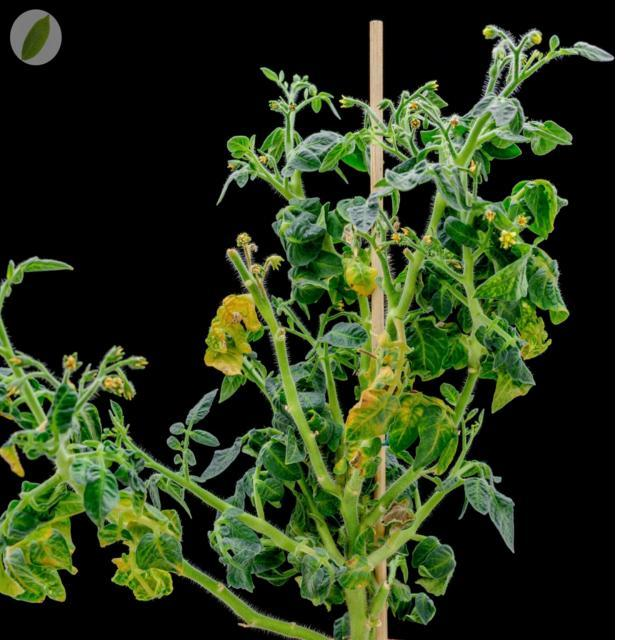tomato: (0, 7, 613, 620)
